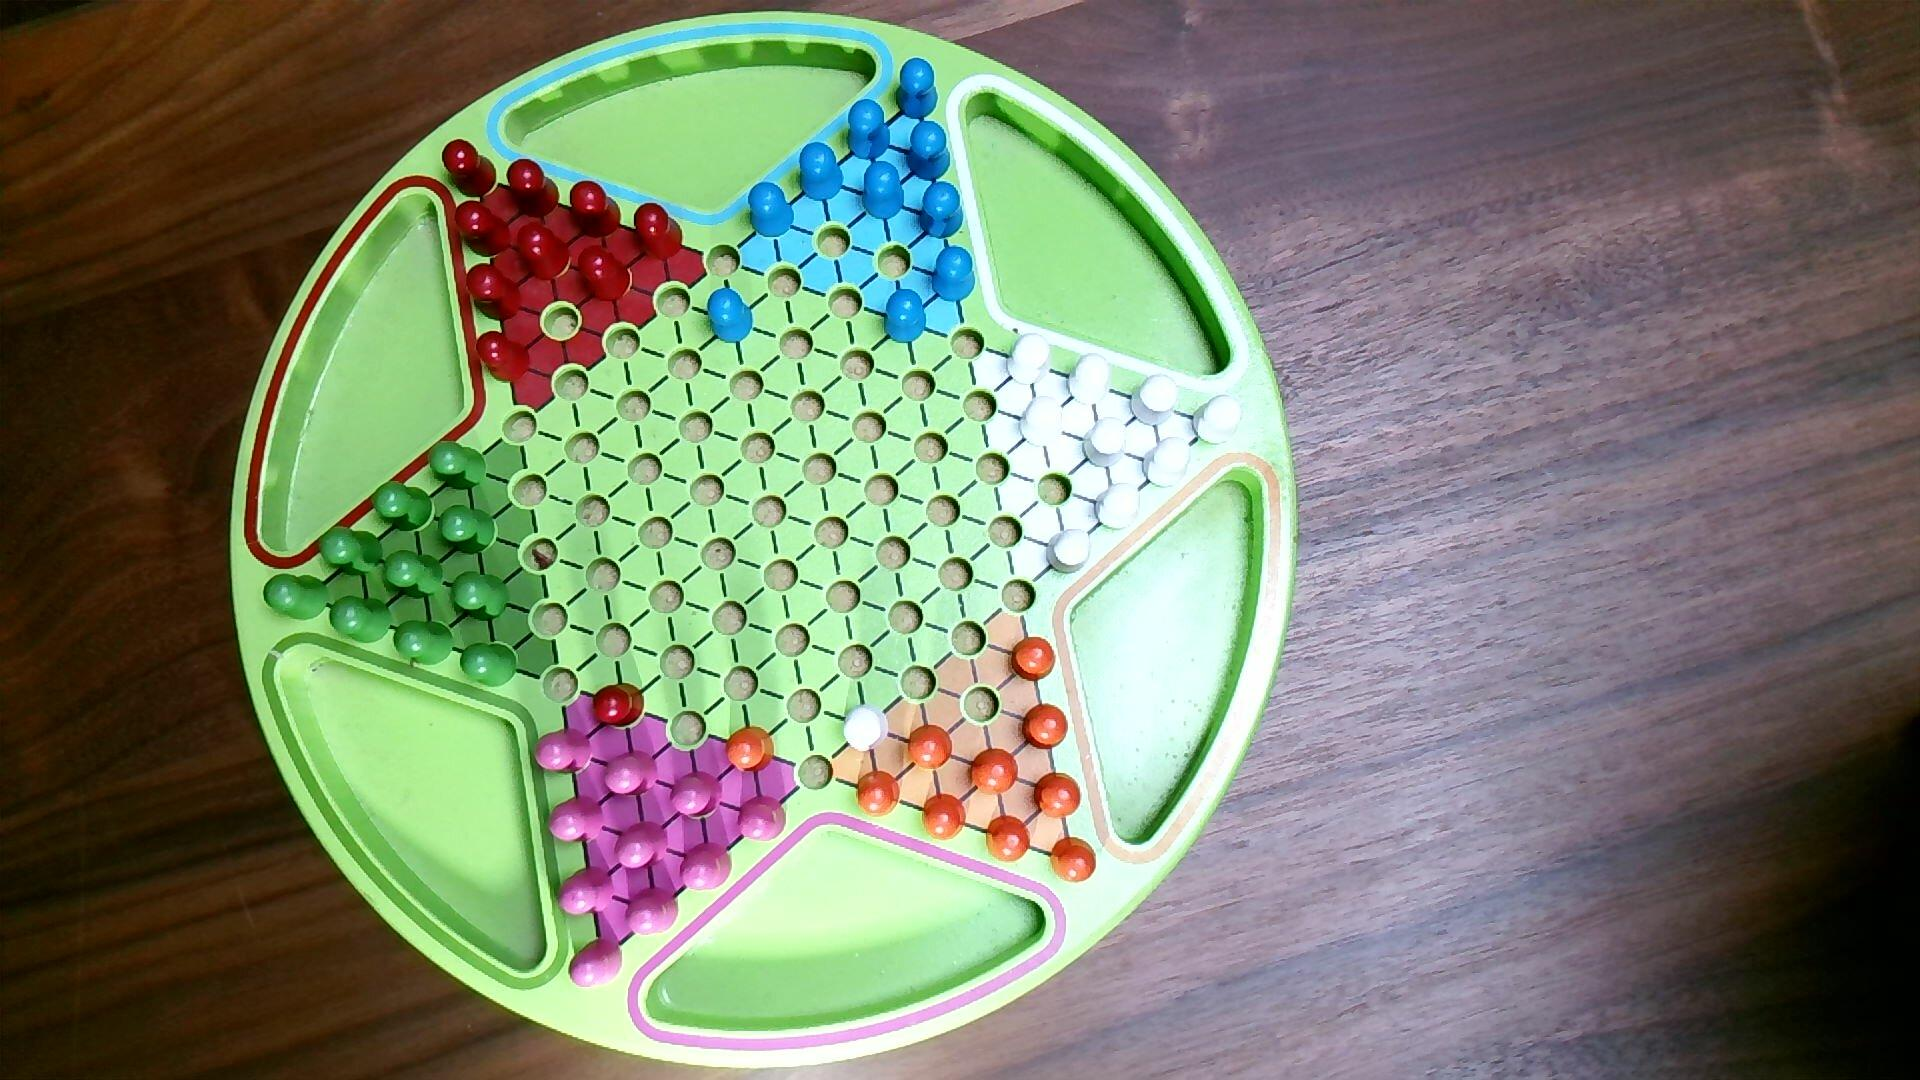B: (905, 119, 953, 183), (895, 57, 942, 123), (798, 142, 847, 204), (918, 179, 967, 241), (847, 98, 893, 162), (930, 245, 978, 305), (748, 181, 796, 240), (861, 160, 907, 222), (707, 287, 756, 345), (884, 287, 928, 345)
G: (316, 524, 385, 579), (371, 479, 436, 535), (436, 502, 500, 559), (262, 572, 332, 622), (426, 439, 489, 493), (328, 595, 396, 645), (448, 570, 512, 622), (393, 618, 456, 667), (385, 553, 446, 601), (460, 641, 520, 690)
O: (1033, 770, 1084, 822), (725, 725, 777, 775), (906, 723, 956, 774), (971, 746, 1021, 798), (982, 814, 1033, 864), (1021, 702, 1071, 752), (855, 769, 903, 819), (1050, 835, 1098, 885), (1009, 636, 1058, 684), (920, 793, 968, 843)
R: (516, 219, 574, 284), (464, 262, 524, 324), (452, 199, 514, 258), (440, 138, 498, 200), (576, 243, 633, 305), (570, 179, 624, 243), (506, 157, 560, 220), (632, 200, 686, 262), (475, 328, 533, 385), (591, 680, 647, 731)
R2: (568, 935, 626, 990), (556, 865, 616, 919), (612, 819, 671, 873), (547, 793, 607, 847), (533, 727, 596, 777), (622, 885, 680, 938), (669, 769, 724, 823), (603, 749, 661, 799), (679, 843, 735, 894), (736, 793, 789, 844)
W: (1139, 434, 1193, 492), (1127, 373, 1182, 429), (1192, 394, 1245, 448), (1018, 394, 1067, 451), (1081, 415, 1131, 469), (1067, 352, 1114, 409), (843, 702, 891, 756), (1006, 332, 1054, 388), (1095, 481, 1143, 533), (1044, 527, 1093, 578)
